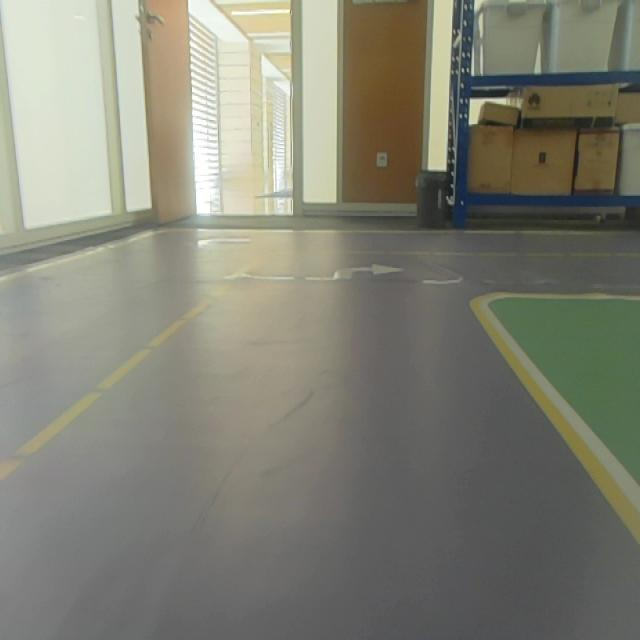right_lane: (0, 267, 240, 481), (478, 299, 640, 543)
